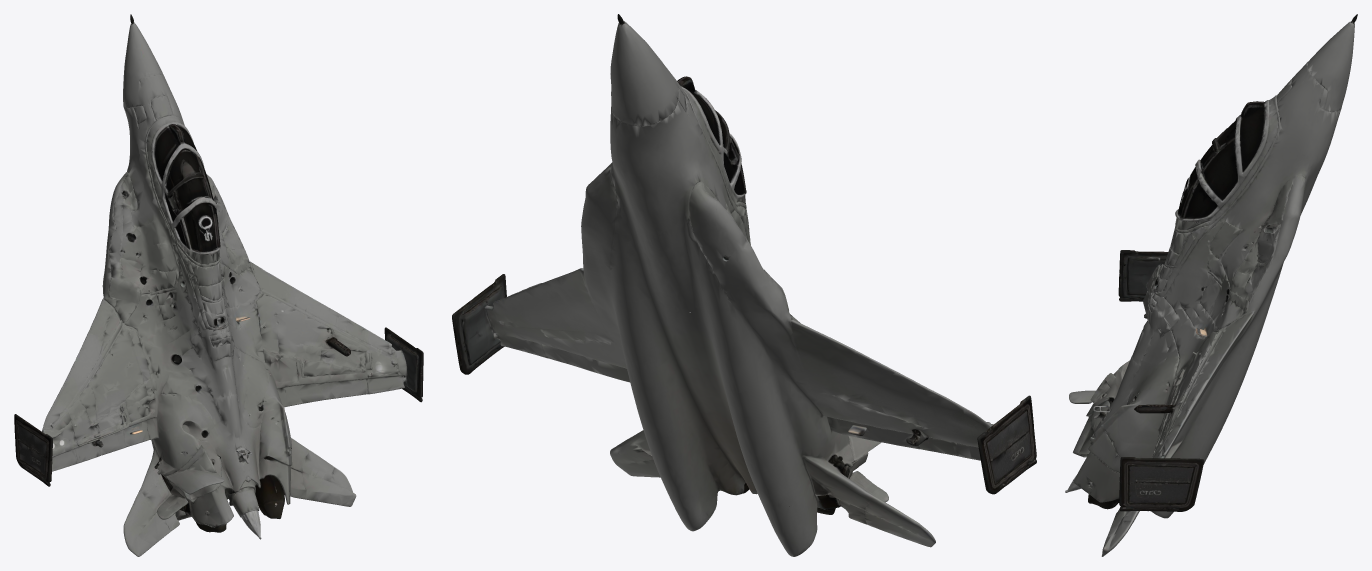
File: warhawk.glb
The picture shows the model from 3 angles, left to right: view 1: azimuth 30°, elevation 25°; view 2: azimuth 150°, elevation 25°; view 3: azimuth 270°, elevation 25°; orthographic projection. The views are drawn at different scales.
Parts seen in each view (by area): view 1: tripo_node_a4f3a6c4-dfa5-4c3d-a5fd-538af250882d; view 2: tripo_node_a4f3a6c4-dfa5-4c3d-a5fd-538af250882d; view 3: tripo_node_a4f3a6c4-dfa5-4c3d-a5fd-538af250882d.
Part boxes in pixels (x1=…): tripo_node_a4f3a6c4-dfa5-4c3d-a5fd-538af250882d: x1=14, y1=14, x2=423, y2=556; tripo_node_a4f3a6c4-dfa5-4c3d-a5fd-538af250882d: x1=452, y1=14, x2=1036, y2=556; tripo_node_a4f3a6c4-dfa5-4c3d-a5fd-538af250882d: x1=1065, y1=14, x2=1357, y2=556.
Bounding box in the file's own units: 0.8849 × 0.9782 × 0.5336.
1 material, 1 textured.
